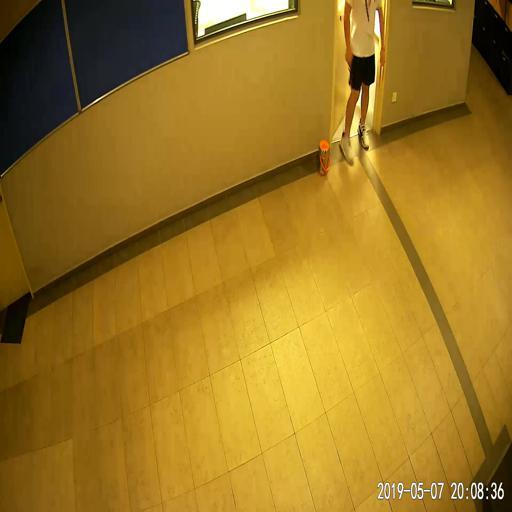Handgun: (343, 50, 354, 84)
